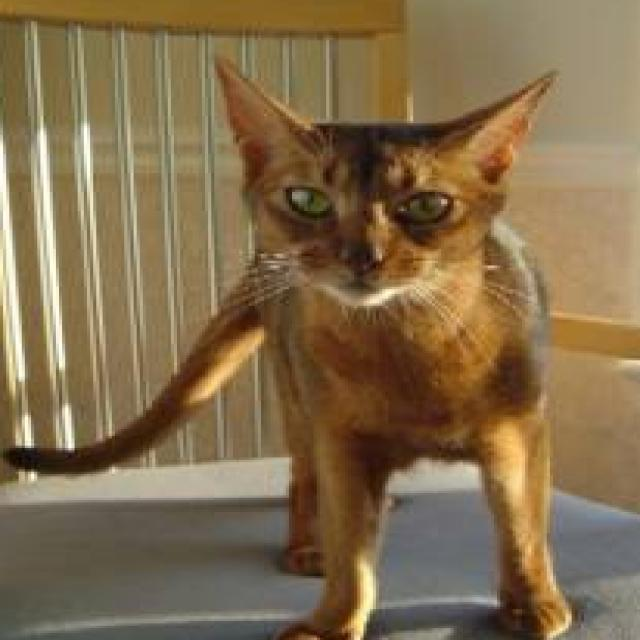Abyssinian: (0, 47, 584, 640)
